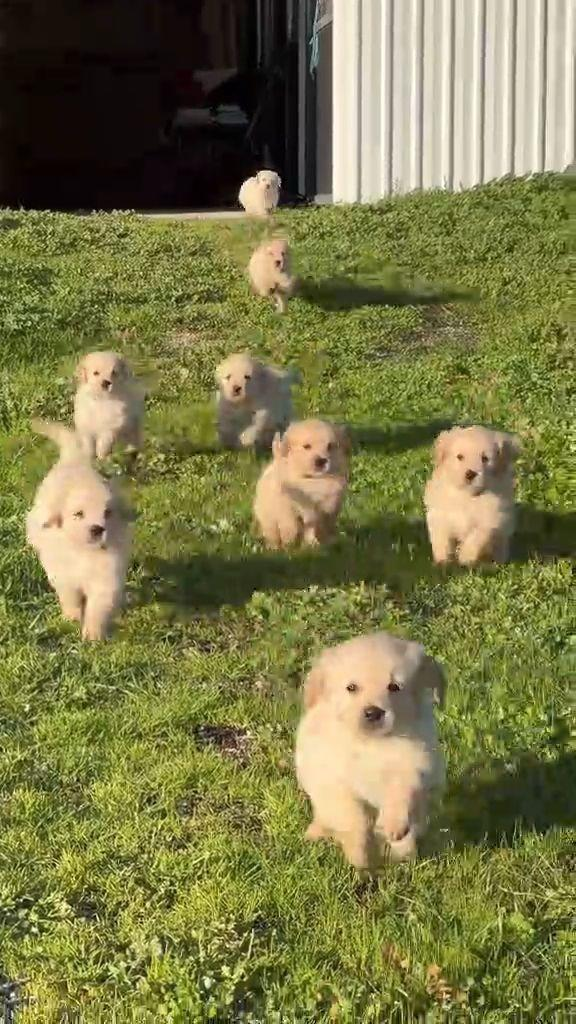puppy-dog: (290, 630, 448, 877), (26, 420, 140, 643), (421, 424, 522, 576), (252, 417, 358, 552), (70, 347, 152, 463), (214, 352, 303, 451), (243, 238, 298, 315), (236, 169, 283, 217)
